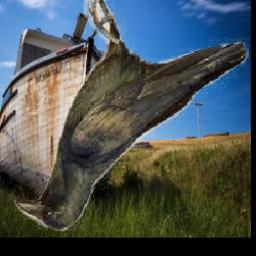Crow: (11, 0, 248, 233)
